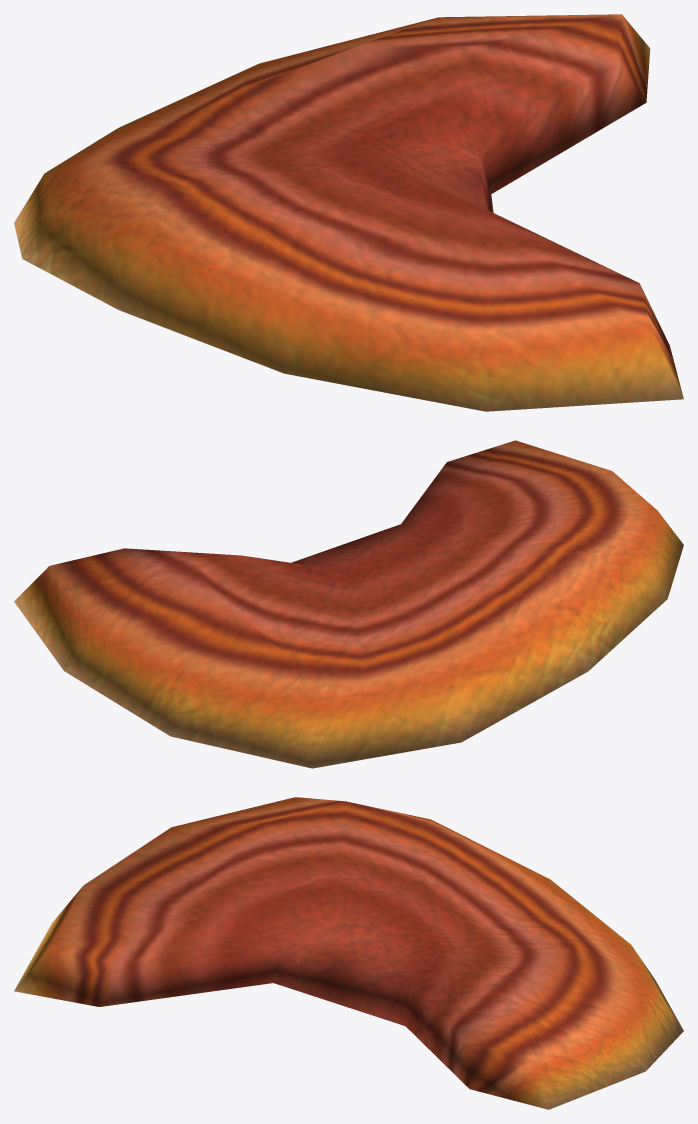
Rendered from conks 3.fbx.
The picture shows the model from 3 angles, top to bottom: view 1: azimuth 30°, elevation 25°; view 2: azimuth 150°, elevation 25°; view 3: azimuth 270°, elevation 25°; orthographic projection. The views are drawn at different scales.
Parts seen in each view (by area): view 1: conks_3; view 2: conks_3; view 3: conks_3.
Boxes of the visible parts, x1,y1,x2,y2 form: conks_3: (14,14,683,411); conks_3: (14,440,683,768); conks_3: (14,797,683,1109).
Bounding box in the file's own units: 0.7088 × 0.1678 × 0.7938.
